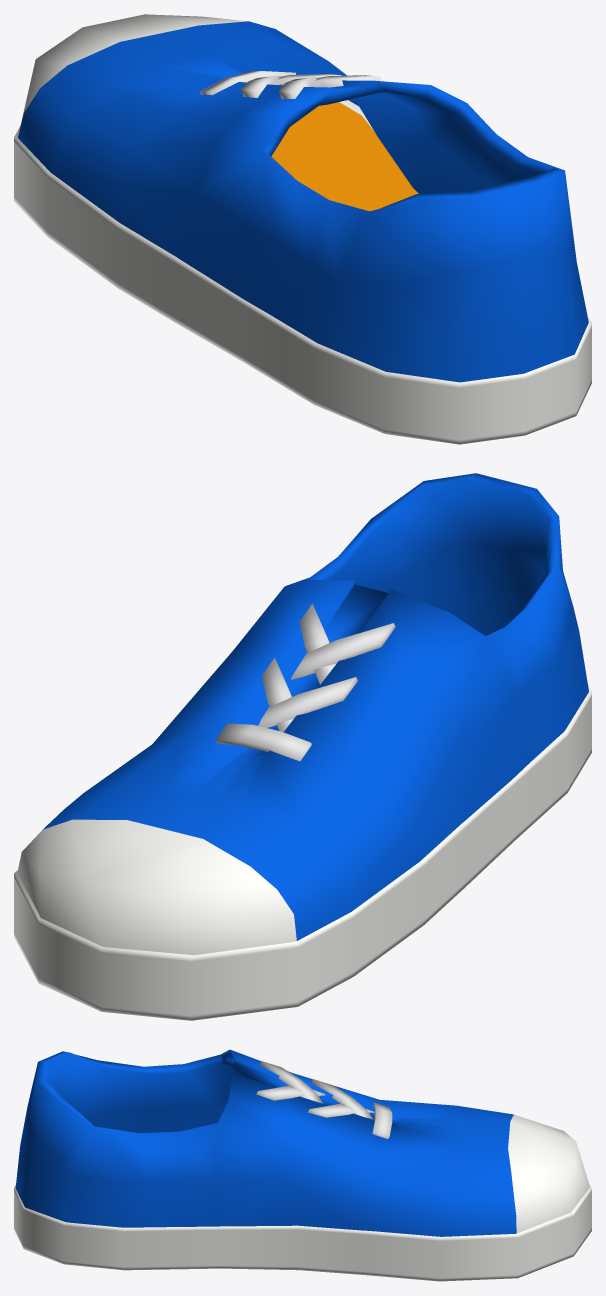
Rendered from shoe_3.fbx.
The picture shows the model from 3 angles, top to bottom: view 1: azimuth 30°, elevation 25°; view 2: azimuth 150°, elevation 25°; view 3: azimuth 270°, elevation 25°; orthographic projection. The views are drawn at different scales.
Parts seen in each view (by area): view 1: Cube; view 2: Cube; view 3: Cube.
Boxes of the visible parts, x1,y1,x2,y2 form: Cube: (14, 14, 591, 444); Cube: (14, 473, 591, 1020); Cube: (14, 1049, 591, 1281).
Size of the model in its own units: 199 by 149 by 479.
